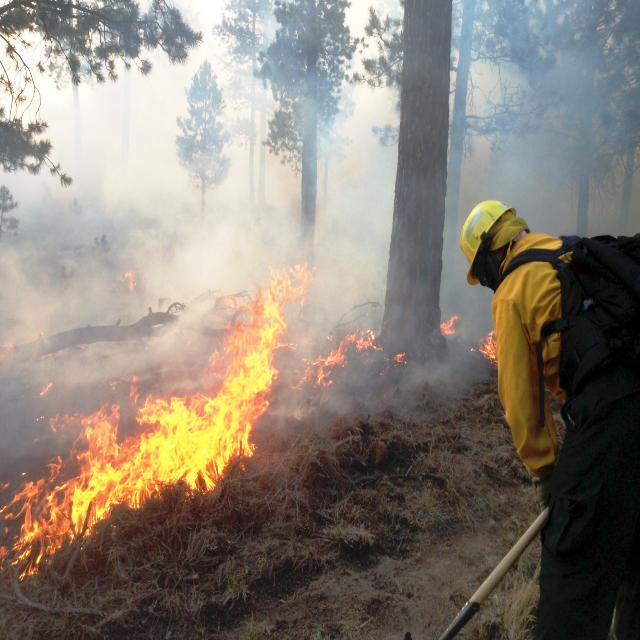api: (1, 244, 325, 601), (296, 329, 382, 401), (473, 322, 503, 371), (437, 311, 462, 343), (122, 269, 141, 301)
asap: (1, 1, 640, 469)
